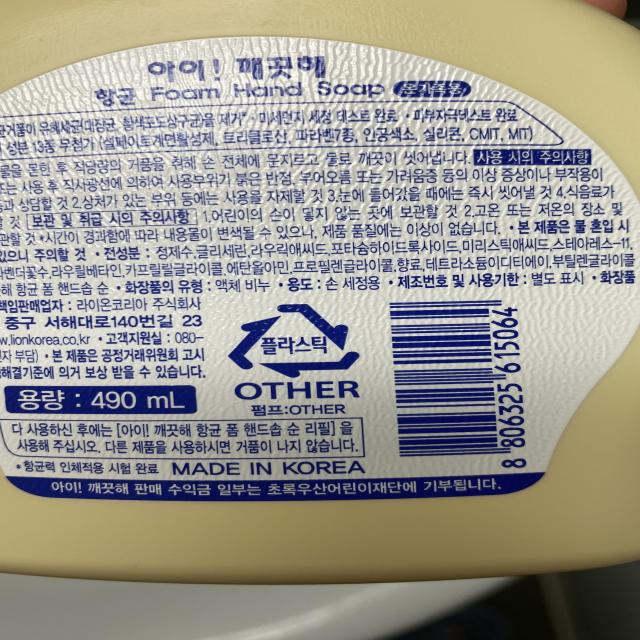Plastic: (226, 298, 364, 381)
